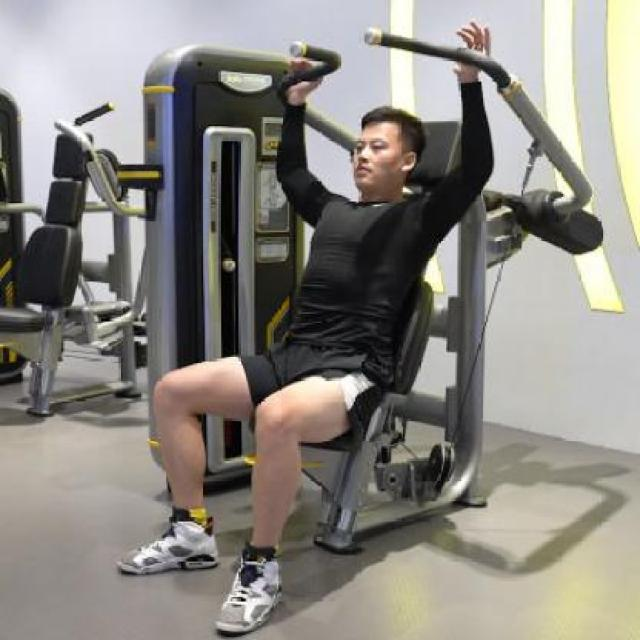shoulder press machine: (143, 28, 605, 557)
